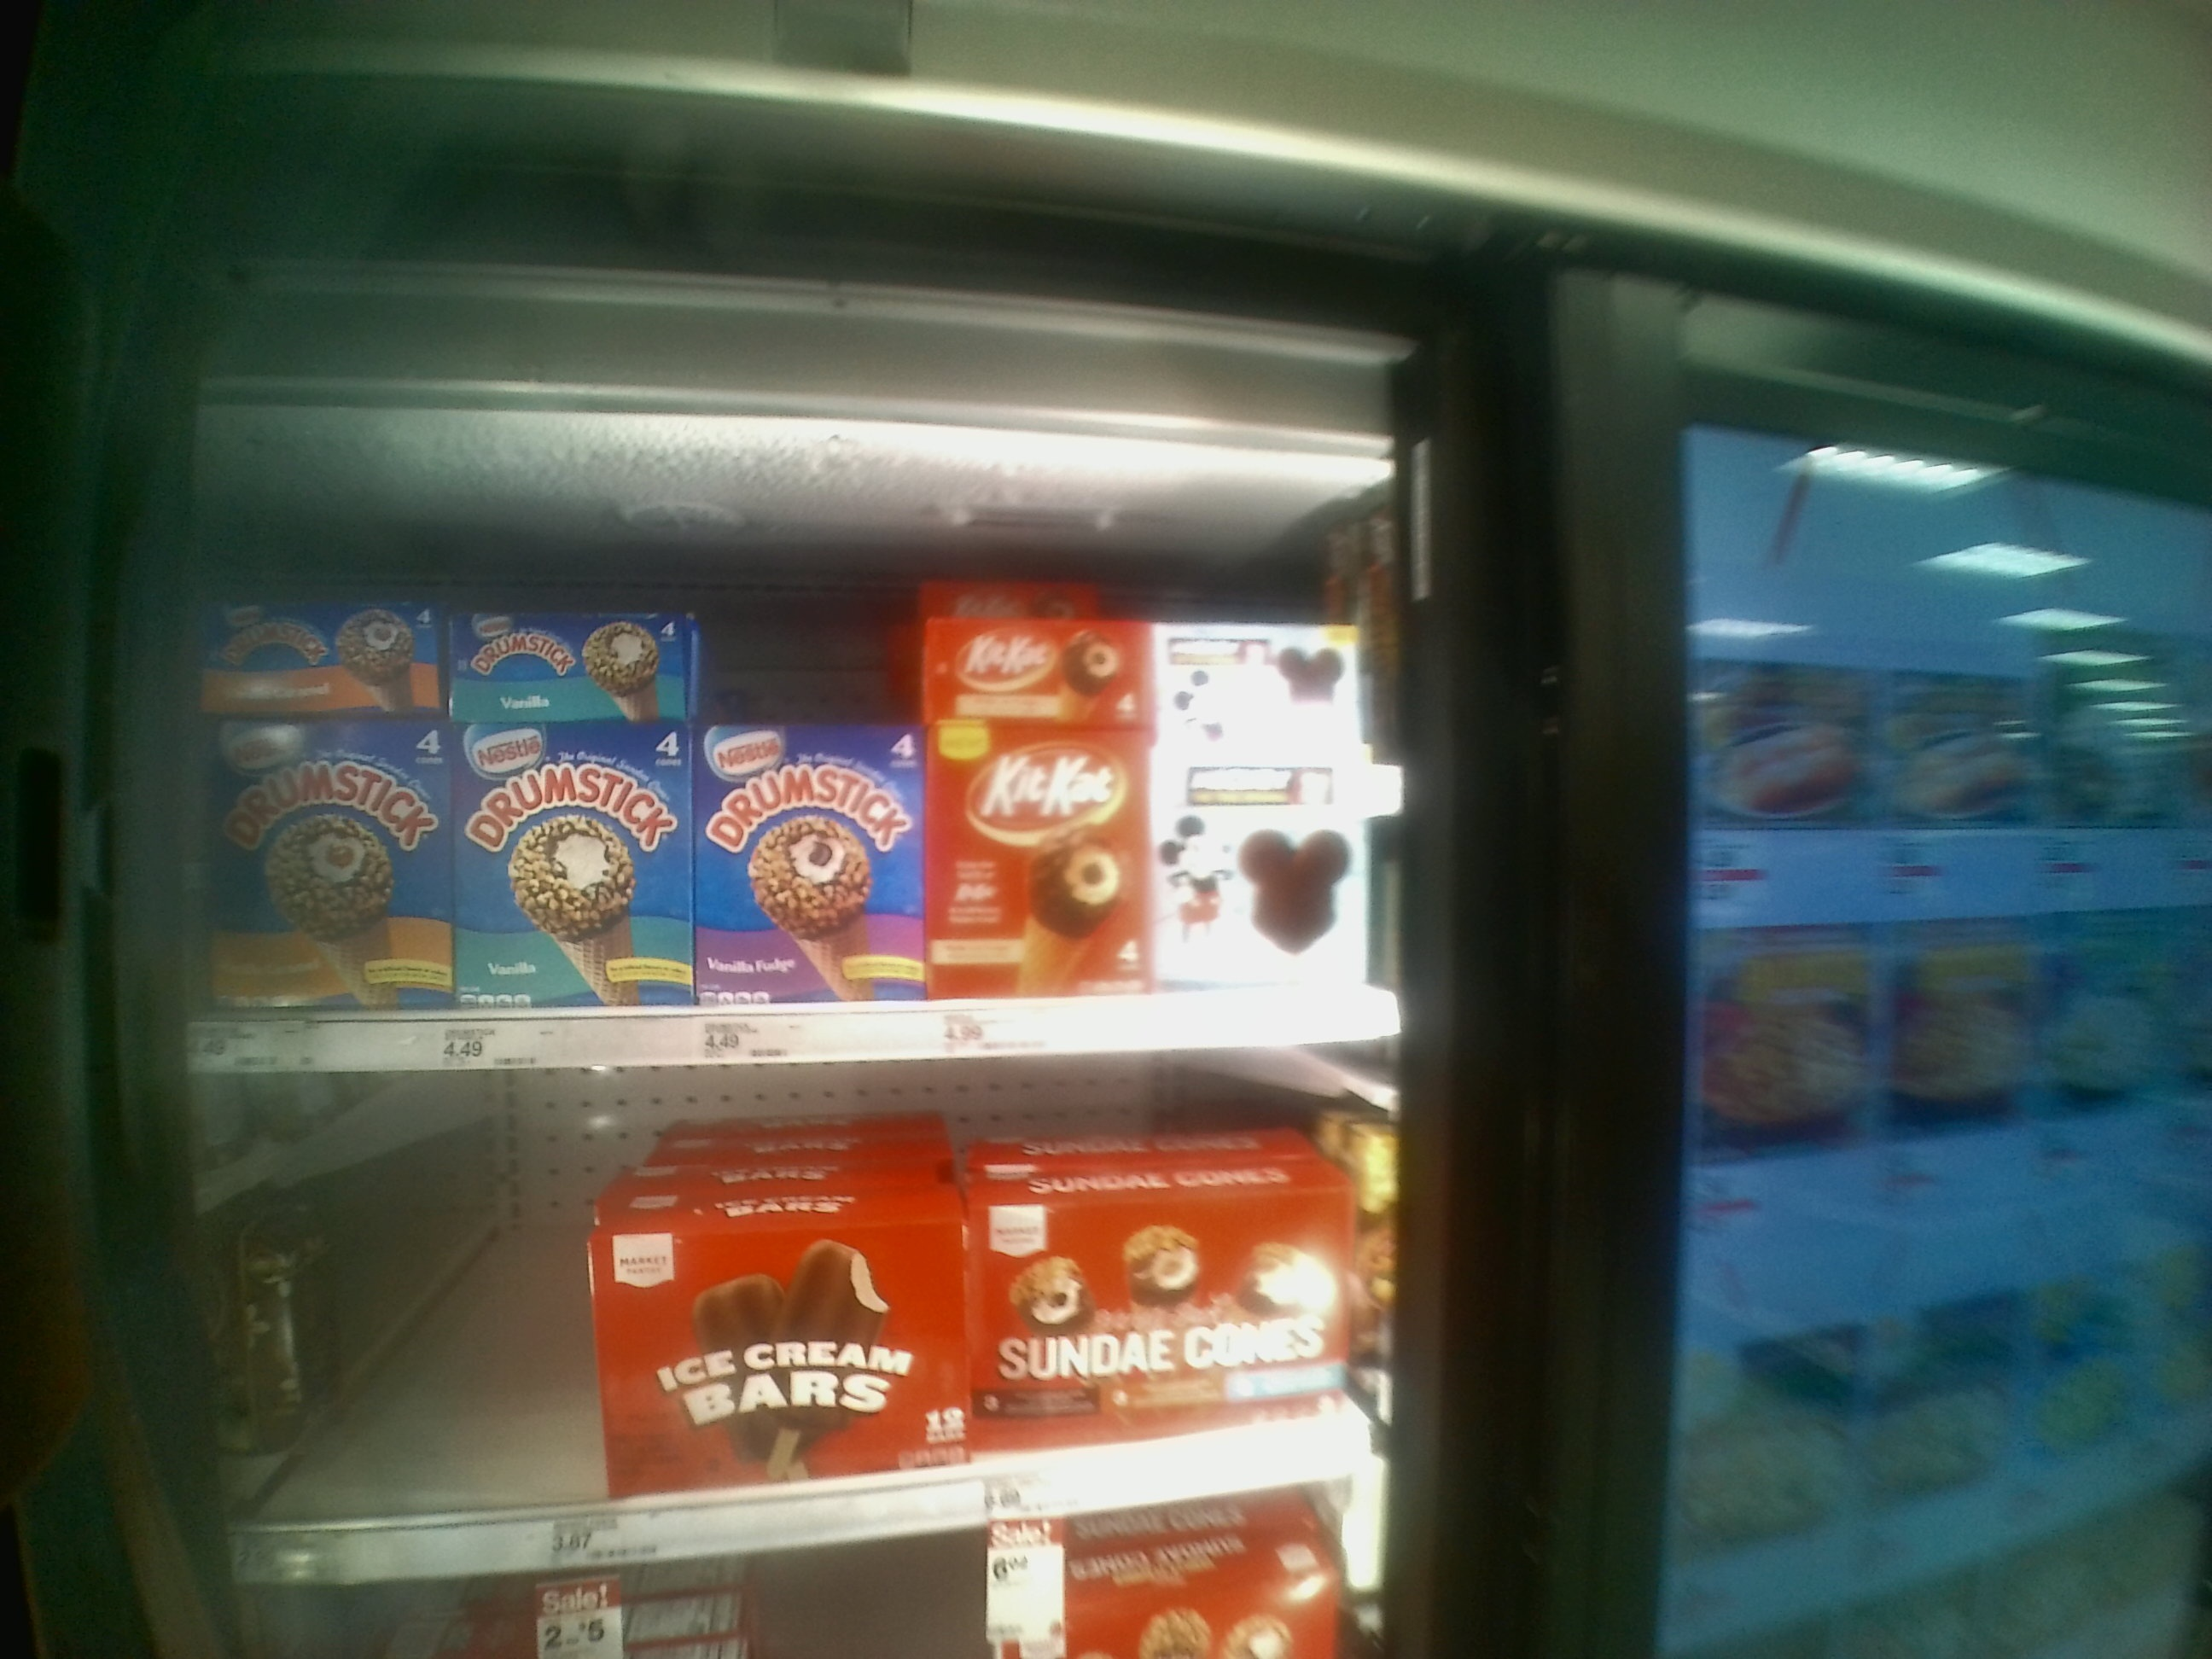frozen-food-shelf: (160, 535, 1447, 1073)
